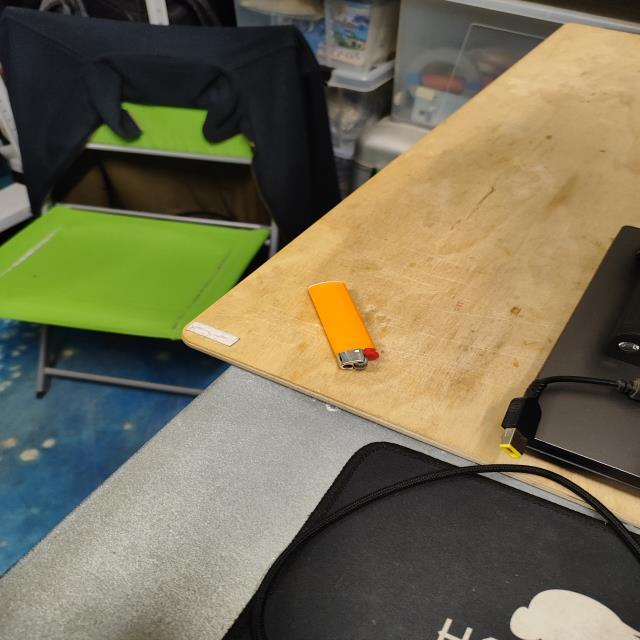lighter: (308, 282, 379, 369)
